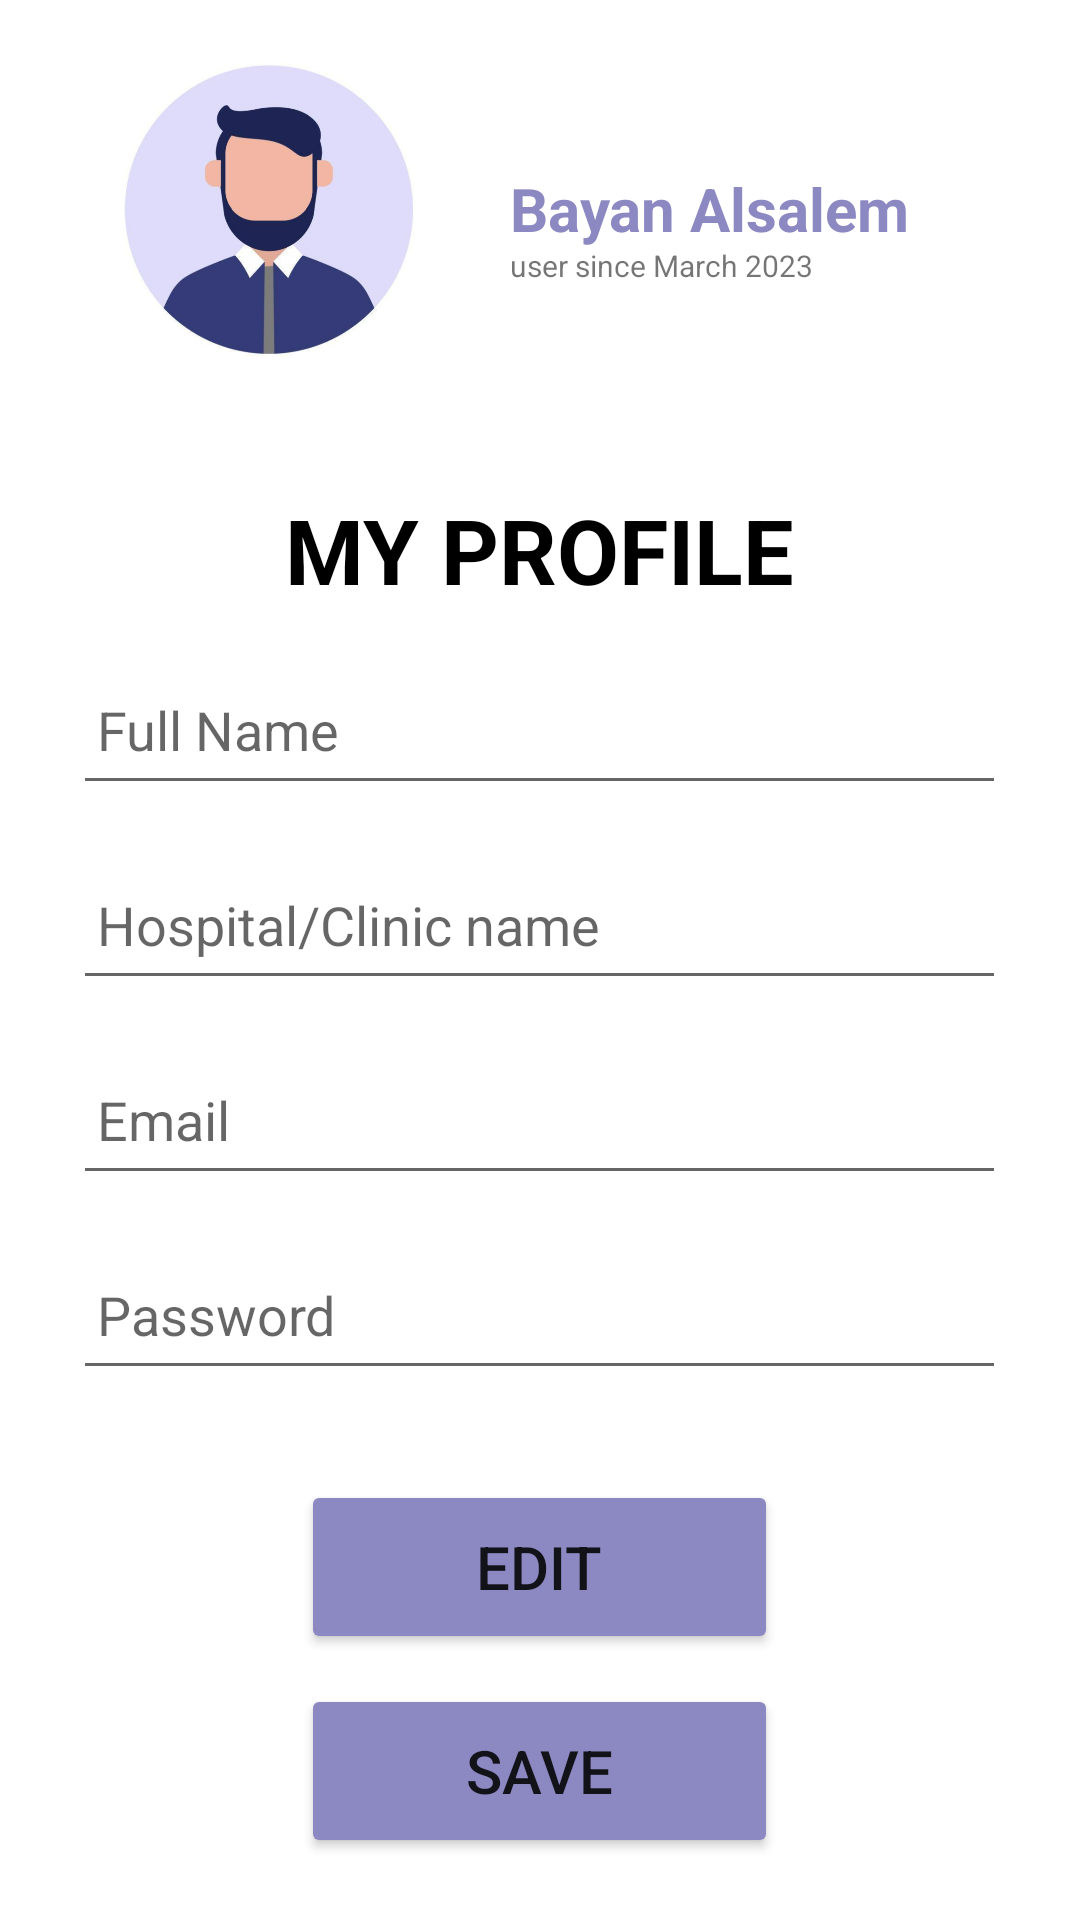

Icons on this 1080×1920 Android screen, each with the point to tap as point (x, y):
male profile picture: point (269, 210)
